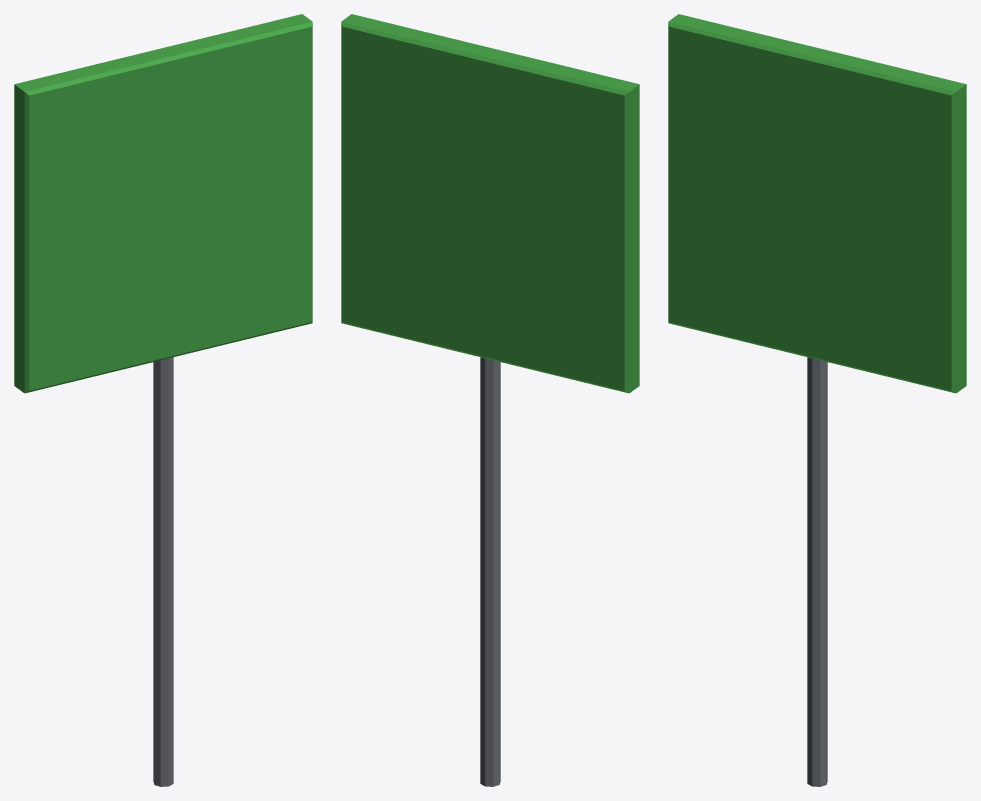
File: roadSignGreen.fbx
The picture shows the model from 3 angles, left to right: view 1: azimuth 30°, elevation 25°; view 2: azimuth 150°, elevation 25°; view 3: azimuth 330°, elevation 25°; orthographic projection.
Parts seen in each view (by area): view 1: roadSignGreen; view 2: roadSignGreen; view 3: roadSignGreen.
Part boxes in pixels (x1=…): roadSignGreen: x1=14, y1=14, x2=312, y2=786; roadSignGreen: x1=341, y1=14, x2=639, y2=786; roadSignGreen: x1=668, y1=14, x2=966, y2=786.
Size of the model in its own units: 100 by 242 by 8.36.
1 material, 1 textured.
